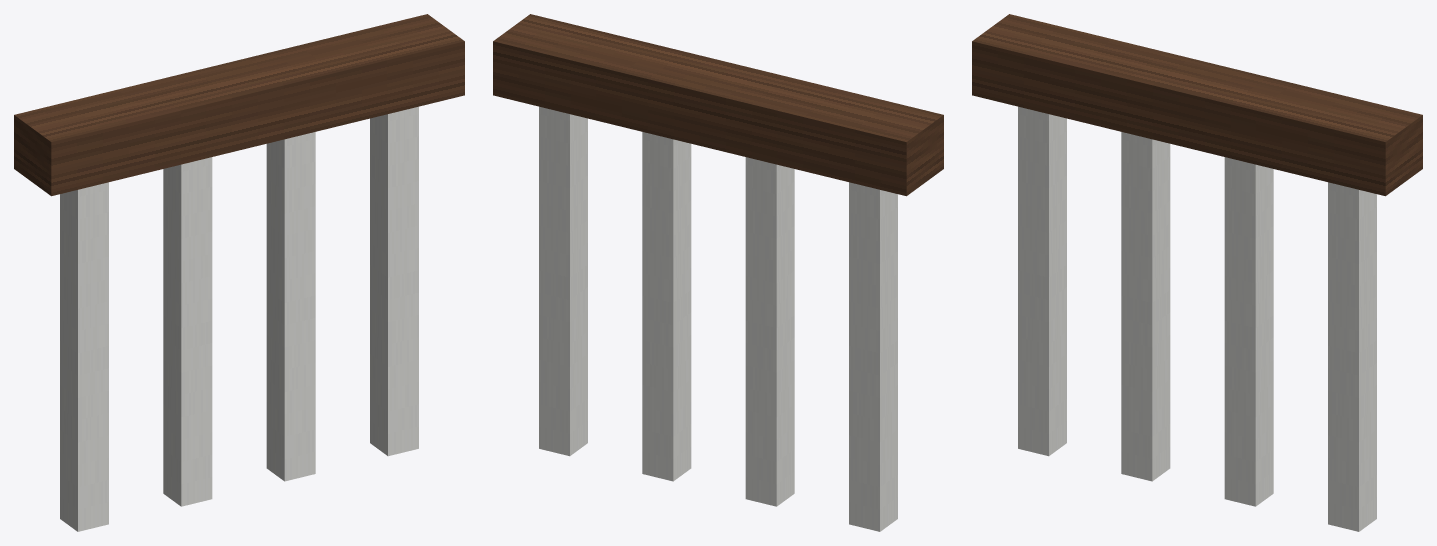
The model's file is level.obj.
3 renders of one model, left to right at view 1: azimuth 30°, elevation 25°; view 2: azimuth 150°, elevation 25°; view 3: azimuth 330°, elevation 25°, orthographic.
Parts seen in each view (by area): view 1: railing_baluster_walnut_level; view 2: railing_baluster_walnut_level; view 3: railing_baluster_walnut_level.
Part boxes in pixels (box(x1,y1,x2,y2)): railing_baluster_walnut_level: box(14, 14, 464, 531); railing_baluster_walnut_level: box(493, 14, 943, 531); railing_baluster_walnut_level: box(972, 14, 1422, 531).
Bounding box in the file's own units: 1 × 0.9375 × 0.1562.
